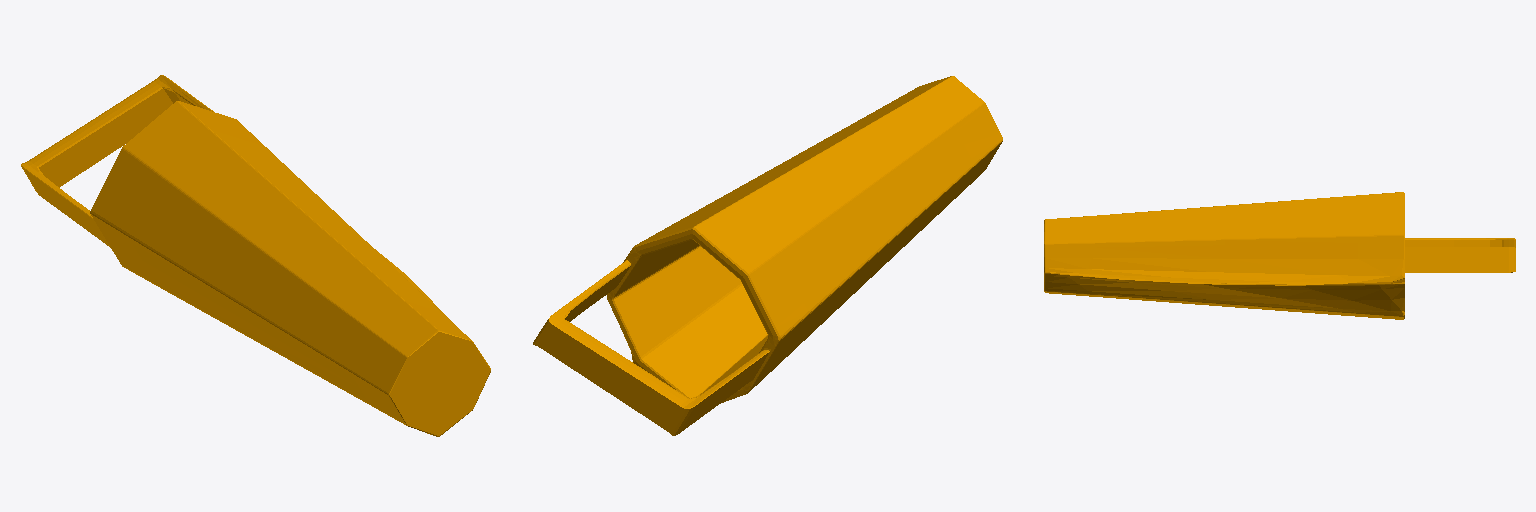
robot.urdf — 296:
<?xml version="1.0" ?>
<robot name="296">
  <link name="body">
    <visual>
      <geometry>
        <mesh filename="../shapes/296.obj"/>
      </geometry>
    </visual>
    <collision>
      <geometry>
        <mesh filename="../shapes/296.obj"/>
      </geometry>
    </collision>
  </link>
</robot>

--- Render facts (derived) ---
The picture shows the robot from 3 angles, left to right: view 1: azimuth 30°, elevation 25°; view 2: azimuth 150°, elevation 25°; view 3: azimuth 270°, elevation 25°; orthographic projection.
Model 296 with 1 links and 0 joints (none), rooted at body, posed every joint at zero.
Visible links, largest first — view 1: body; view 2: body; view 3: body.
Boxes of the visible links, x1,y1,x2,y2 form: body: (21, 75, 490, 436); body: (533, 76, 1002, 435); body: (1044, 192, 1515, 319).
Bounding box of the posed robot: 3.09 × 10.24 × 3.07 m (x, y, z).
1 mesh visuals loaded from 1 distinct referenced files (1 OBJ).